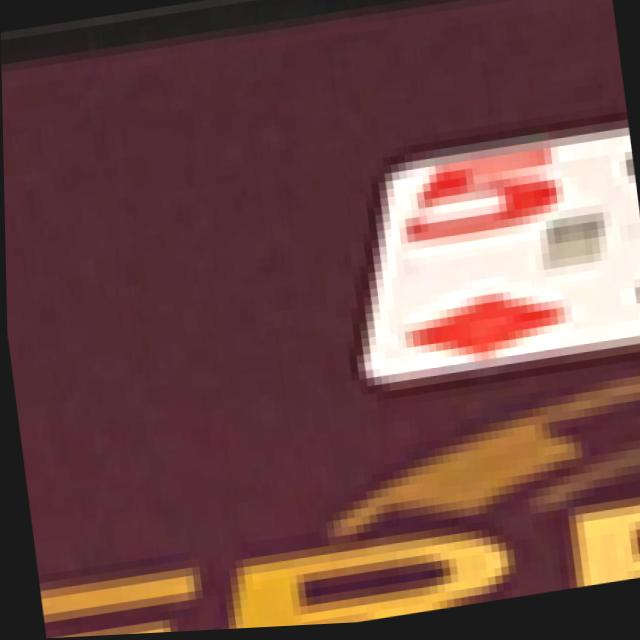Card-5: (367, 139, 640, 382)
